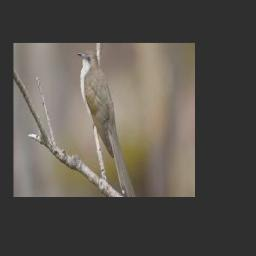Cuckoo: (76, 50, 135, 197)
